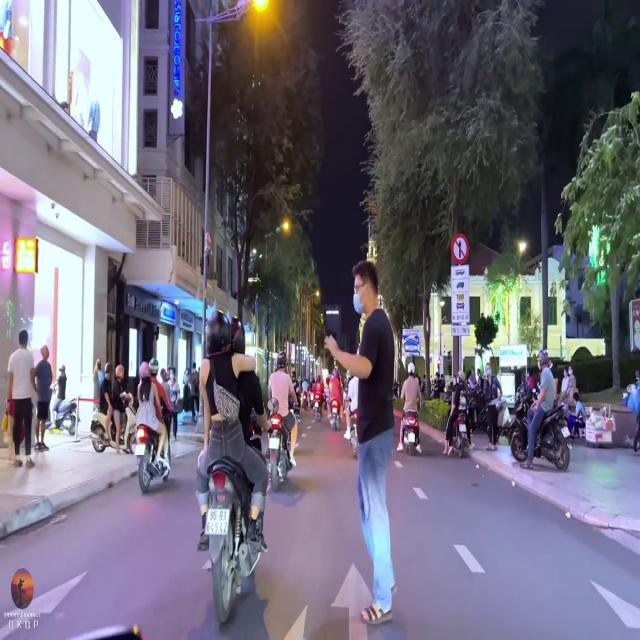bien_trang: (203, 509, 231, 537)
